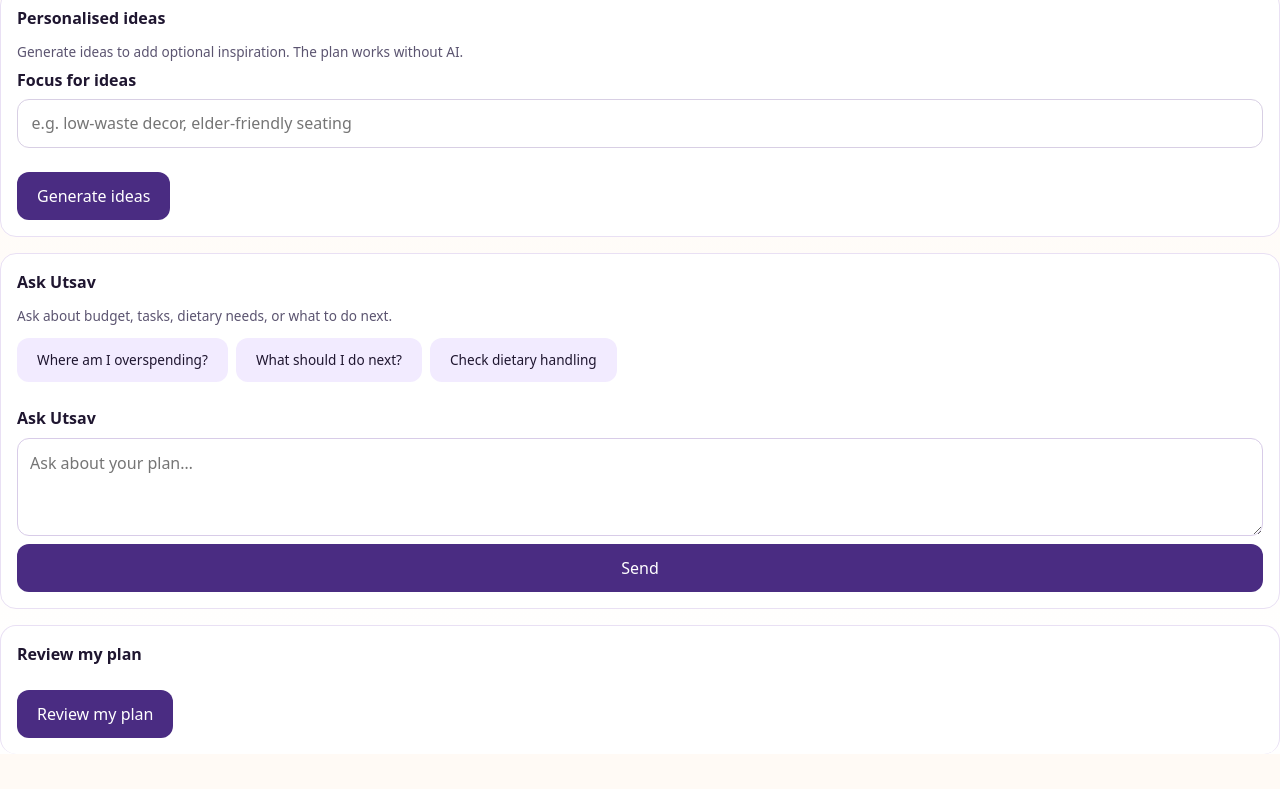
Scenario: AI panel › shows review risks
What coordinates should you click on to do the following:
click the button "Review my plan"
I would click on:
 (95, 714)
Its box is [17,690,174,738].
(page scrolled)
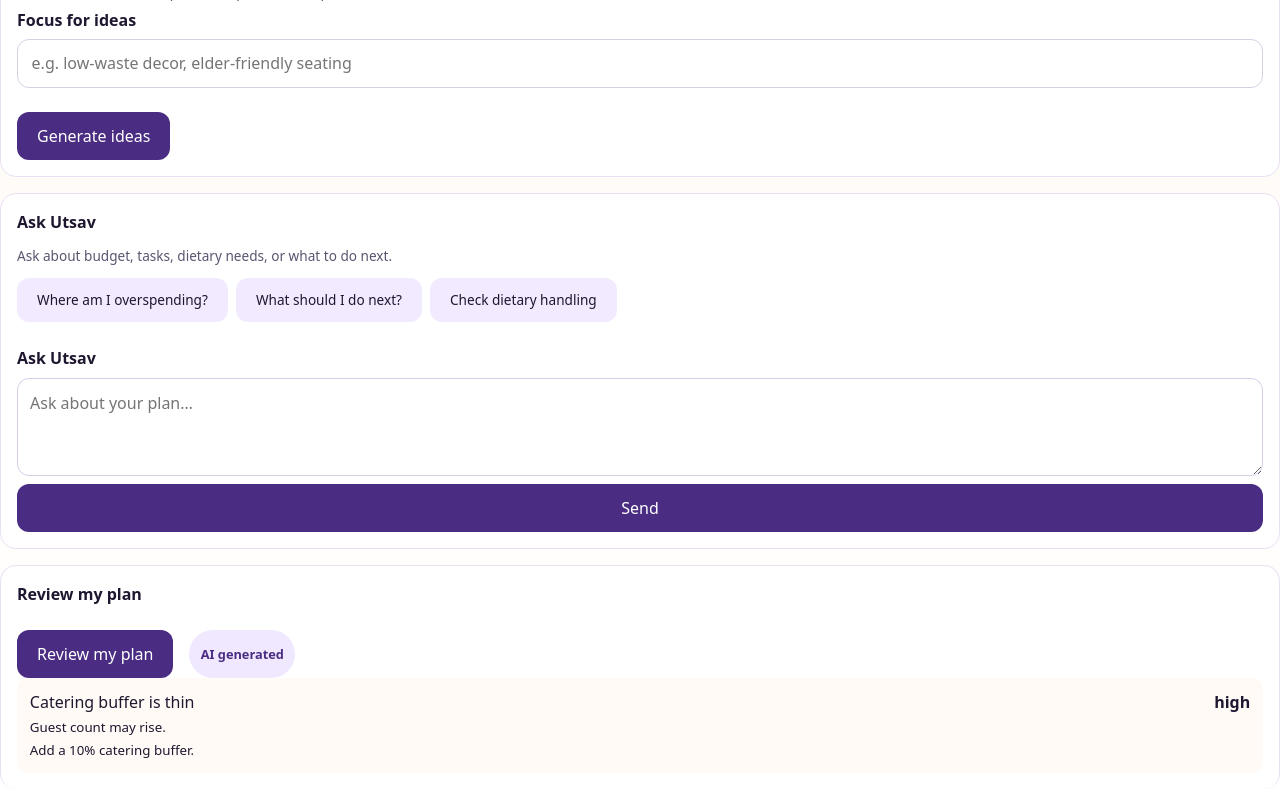
Result: the text "Catering buffer is thin" is shown at [30,691,194,713]
Result: the text "Add a 10% catering buffer." is shown at [30,741,194,759]
